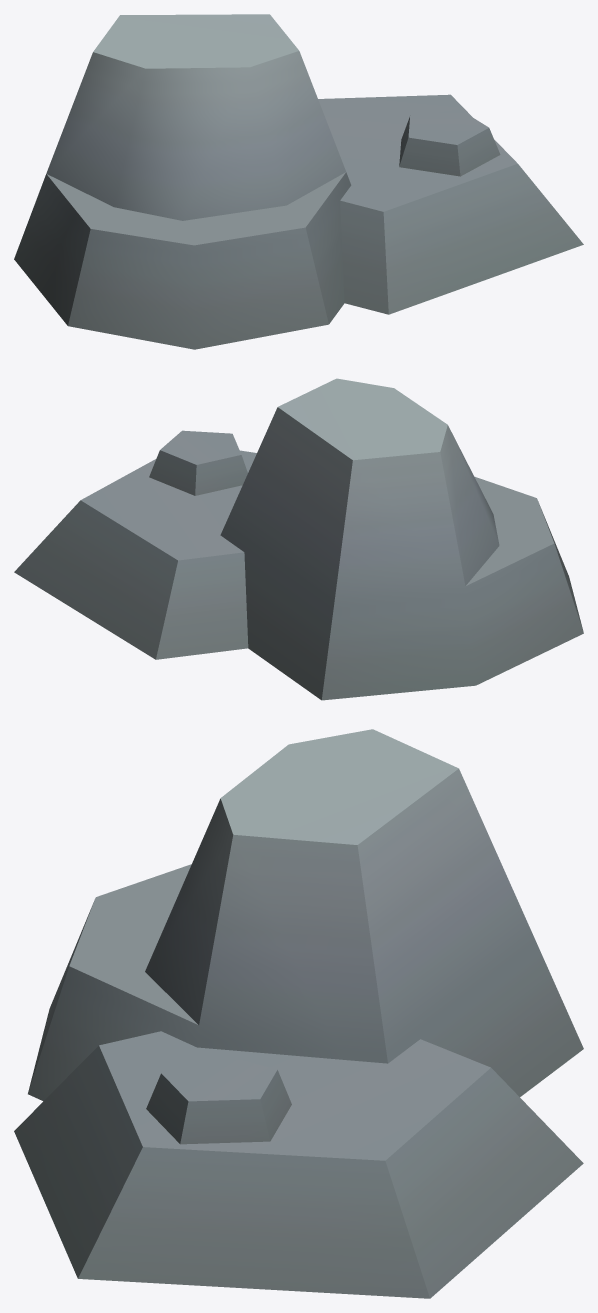
Rendered from rock-b.glb.
3 views of the same model, one above another, from view 1: azimuth 30°, elevation 25°; view 2: azimuth 150°, elevation 25°; view 3: azimuth 270°, elevation 25° (orthographic). The views are drawn at different scales.
Parts seen in each view (by area): view 1: rock_single_E; view 2: rock_single_E; view 3: rock_single_E.
Part boxes in pixels (<box>): rock_single_E: <box>14,14,583,349</box>; rock_single_E: <box>14,378,583,700</box>; rock_single_E: <box>14,729,583,1298</box>.
Size of the model in its own units: 0.4881 by 0.1948 by 0.3475.
1 material, 1 textured.
